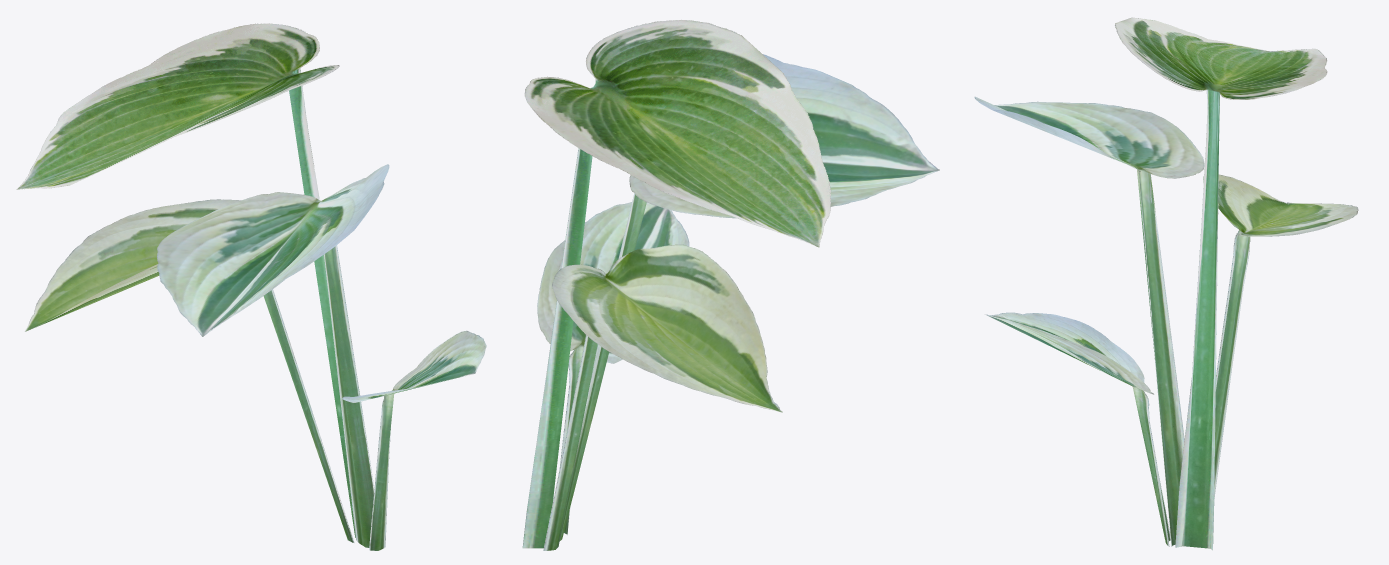
The model's file is plant_small_wg_00_line_filler_07.fbx.
3 views of the same model, side by side, from view 1: azimuth 30°, elevation 25°; view 2: azimuth 150°, elevation 25°; view 3: azimuth 270°, elevation 25° (orthographic). The views are drawn at different scales.
Parts seen in each view (by area): view 1: plant_small_wg_00_line_filler_07; view 2: plant_small_wg_00_line_filler_07; view 3: plant_small_wg_00_line_filler_07.
Boxes of the visible parts, left/top/right/bottom form: plant_small_wg_00_line_filler_07: left=16, top=23, right=486, bottom=550; plant_small_wg_00_line_filler_07: left=522, top=20, right=939, bottom=550; plant_small_wg_00_line_filler_07: left=974, top=17, right=1358, bottom=550.
Size of the model in its own units: 25.34 by 34.63 by 27.32.
1 material, 1 textured.
